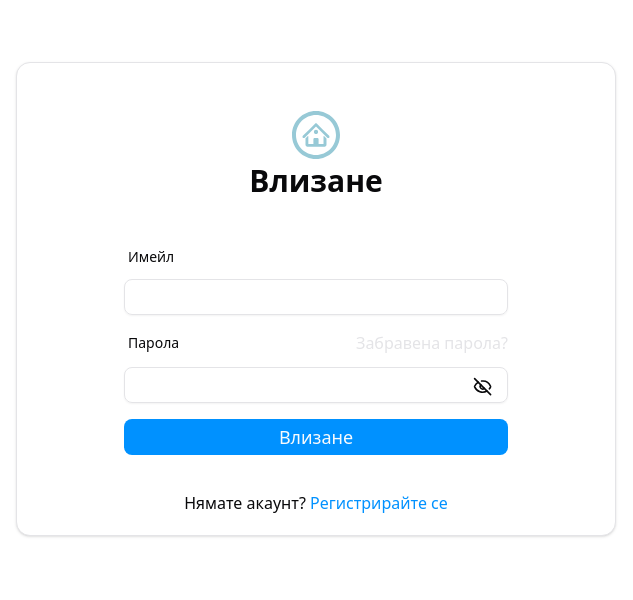
login page errors › shows the error for a 429 (rate limited) on the login page
Type "vesko@example.com" into the field labelled "Имейл" at (316, 297), box [124,279,508,315]
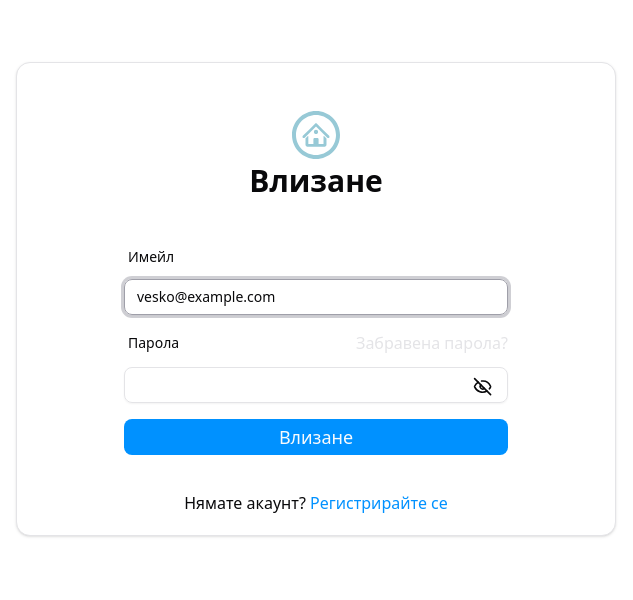
Type "a-password" into the password field labelled "Парола" at (316, 385), box [124,367,508,403]
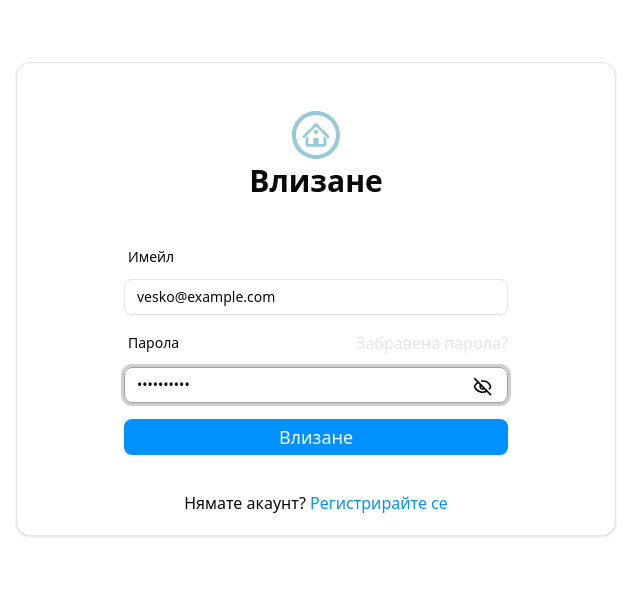
Click the button "Влизане" at (316, 437), box [124,419,508,455]
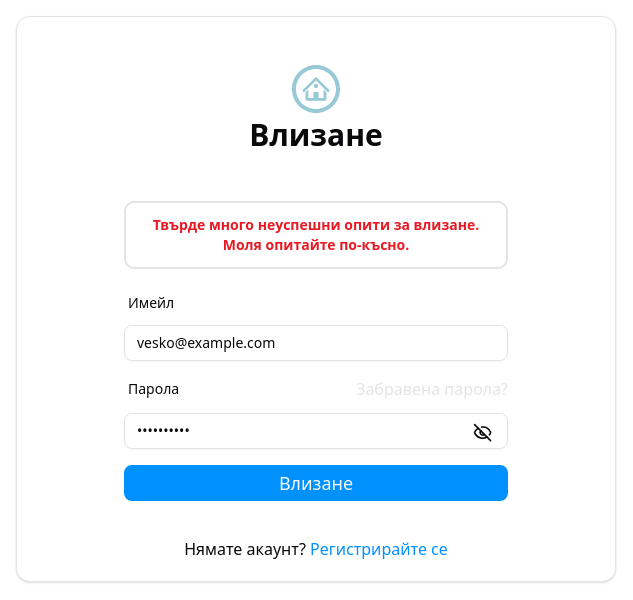
Expected: the button "Влизане" is enabled, [124,465,508,501]
Expected: the text "Твърде много неуспешни опити" is shown, [153,215,479,254]
